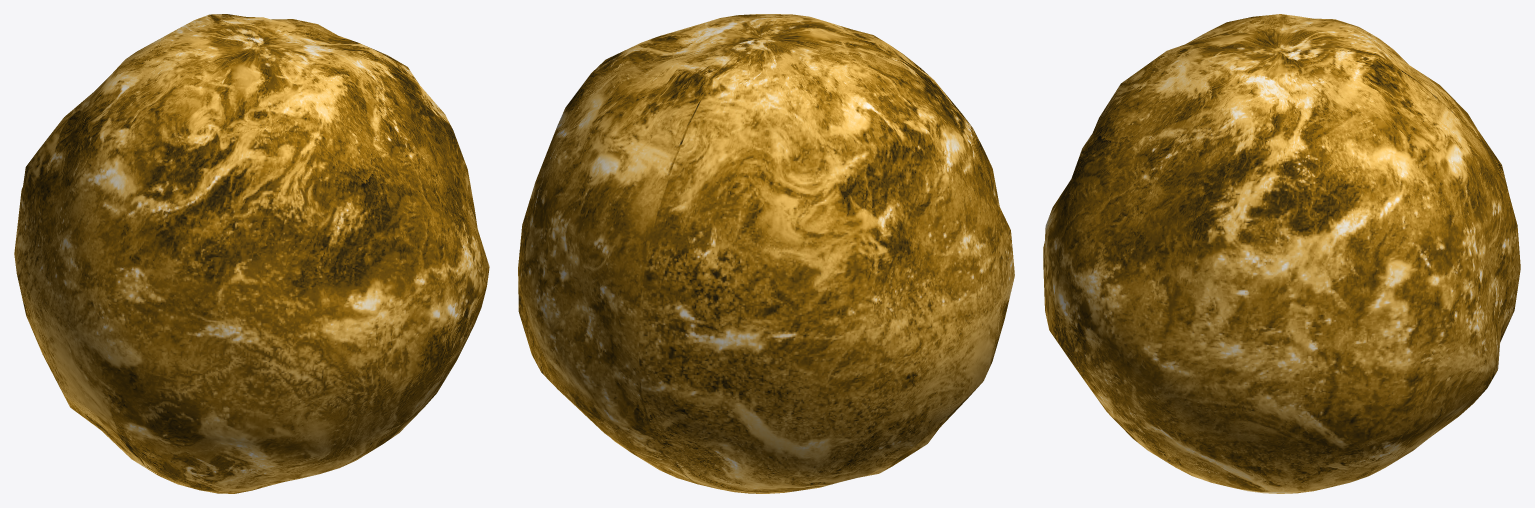
Rendered from burning_planet - Copy.FBX.
3 views of the same model, side by side, from view 1: azimuth 30°, elevation 25°; view 2: azimuth 150°, elevation 25°; view 3: azimuth 270°, elevation 25° (orthographic). The views are drawn at different scales.
Parts seen in each view (by area): view 1: Sphere001; view 2: Sphere001; view 3: Sphere001.
Boxes of the visible parts, x1=… form: Sphere001: x1=14, y1=14, x2=489, y2=493; Sphere001: x1=518, y1=14, x2=1014, y2=493; Sphere001: x1=1043, y1=14, x2=1520, y2=493.
Bounding box in the file's own units: 63.78 × 65.02 × 64.7.
1 material, 1 textured.
